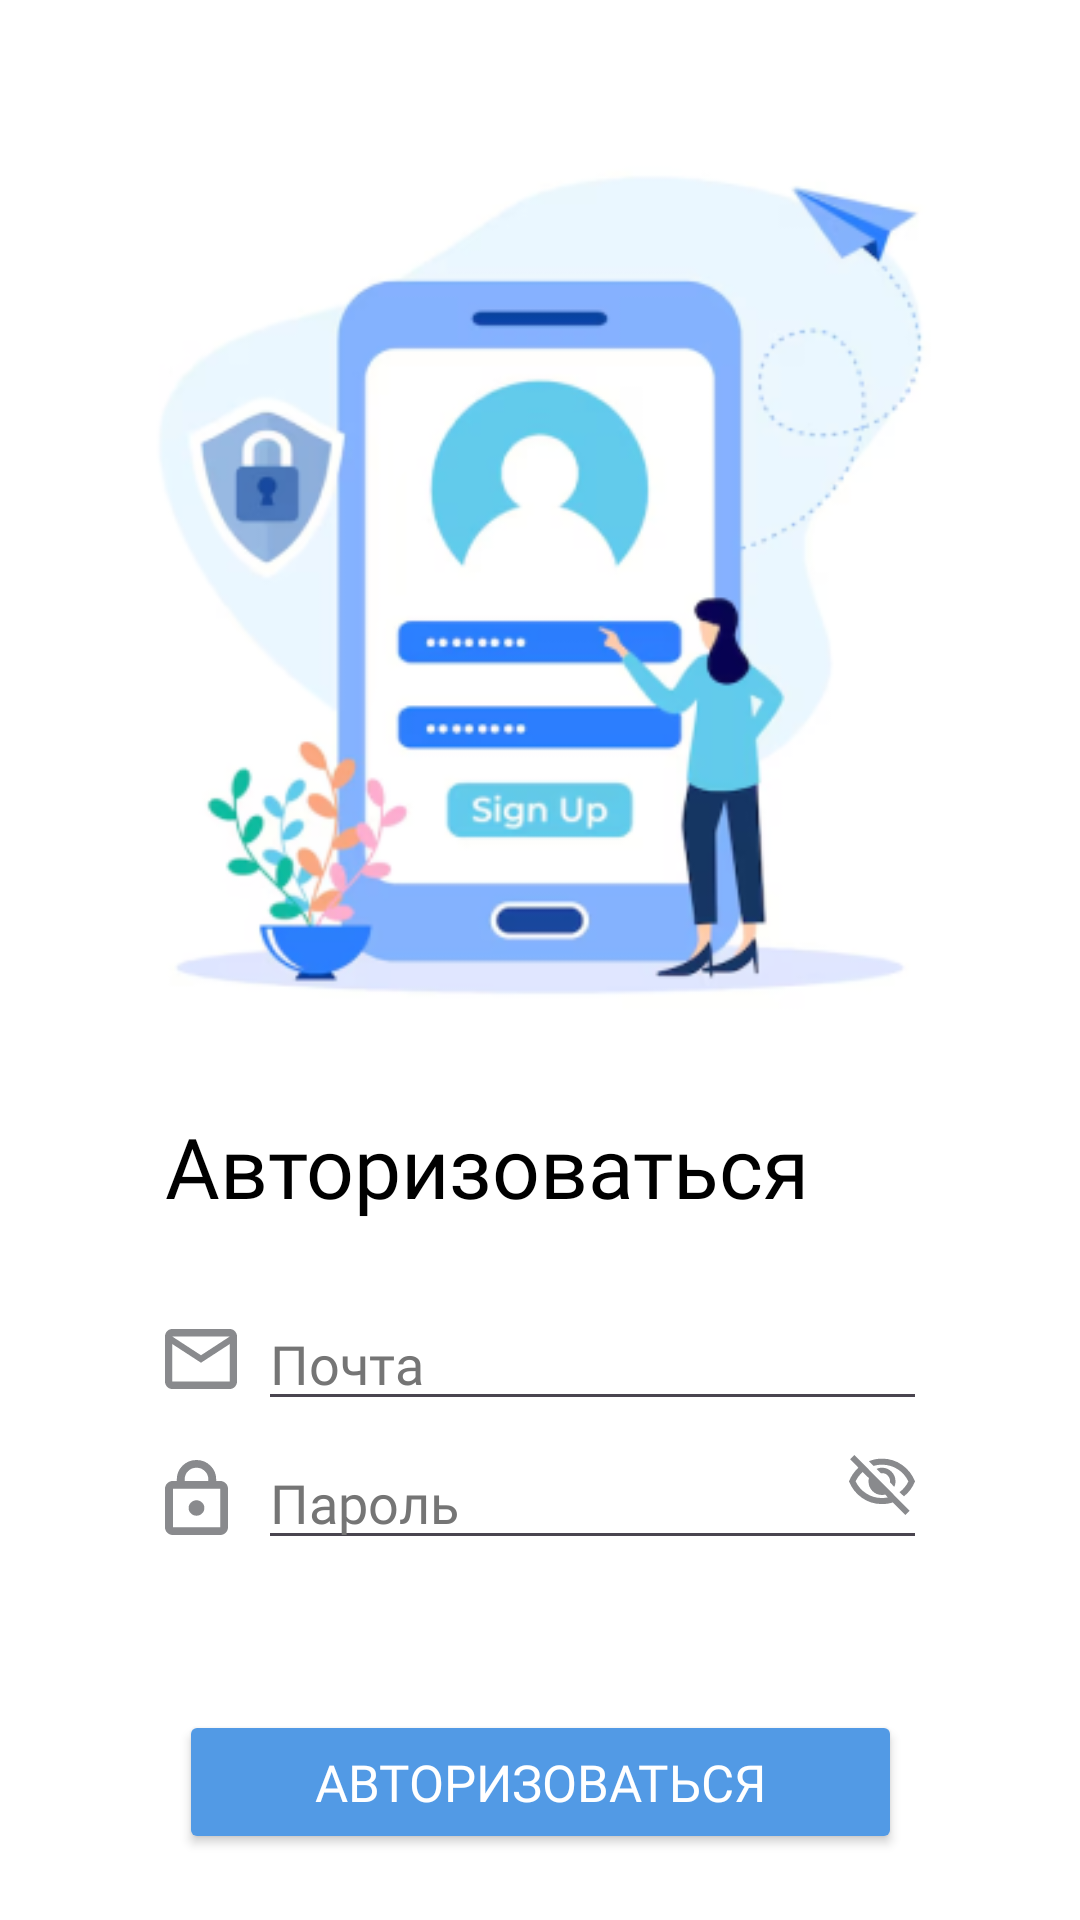

Screen size 1080x1920. Icon name, then its box in pixels as Rect(x1, y1, x2, y2):
eye off: Rect(849, 1455, 915, 1515)
lock: Rect(165, 1460, 228, 1535)
mail: Rect(165, 1329, 237, 1389)
